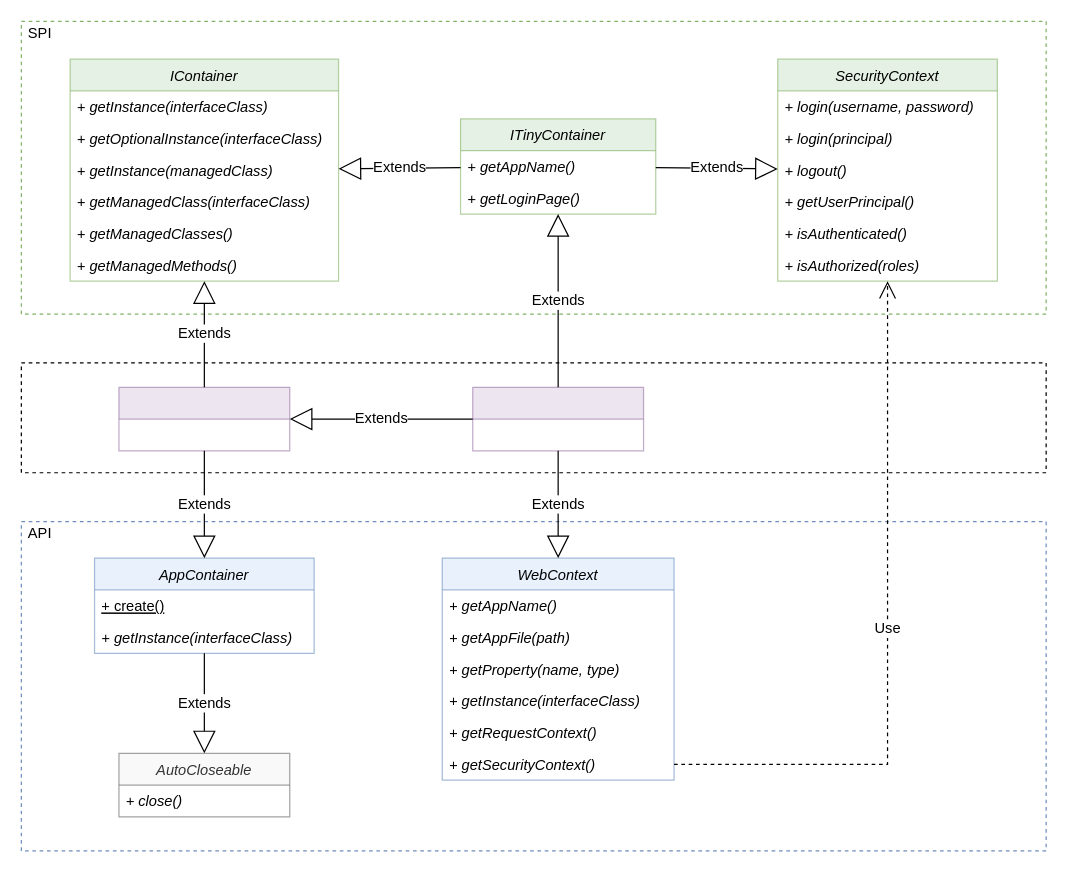
Image size: 1068x872. Some labels were removed from this diagram. Each missing label, with the centre of its shape:
"Container" belongs at point (204, 418).
"TinyContainer" belongs at point (558, 418).
